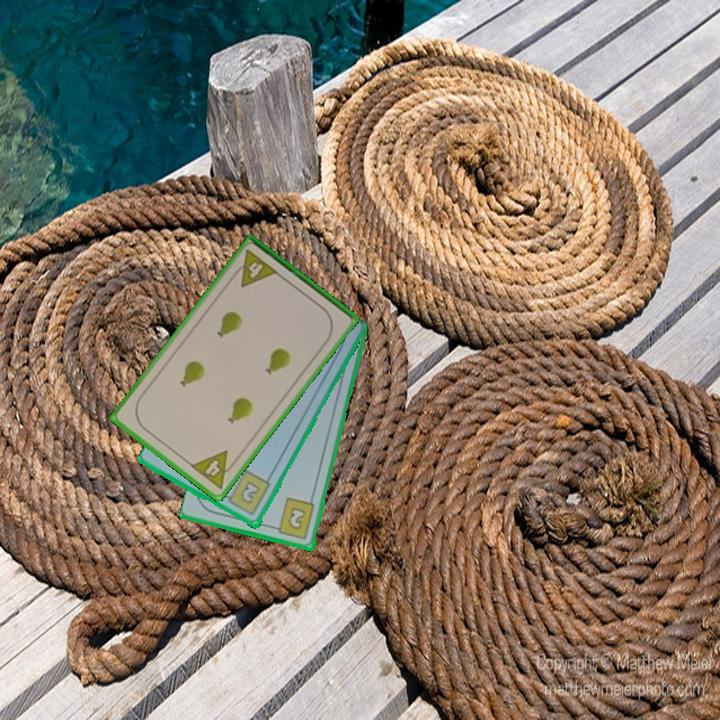2b: (220, 467, 273, 519), (269, 495, 318, 542)
4p: (187, 447, 241, 492), (228, 246, 281, 290)
